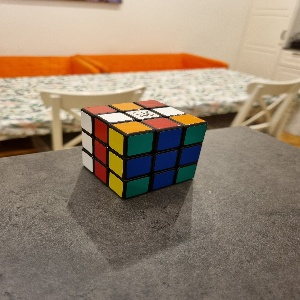cube: (80, 99, 208, 201)
